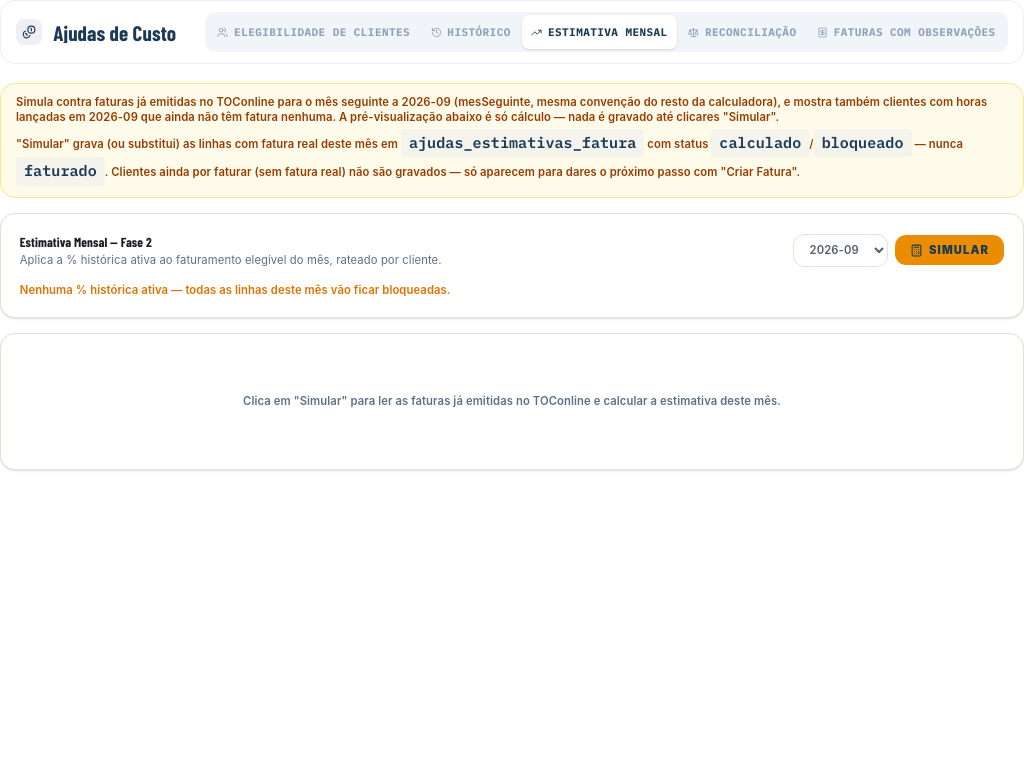
EstimativaMensalTab — Fase 2a com faturas reais do TOConline › resolução manual de fatura sem cliente correspondente › mostra um painel de resolução em vez de só excluir, e não entra no cálculo enquanto pendente
The image size is (1024, 768).
Click the button "Simular": (950, 250) [895, 235, 1004, 265]
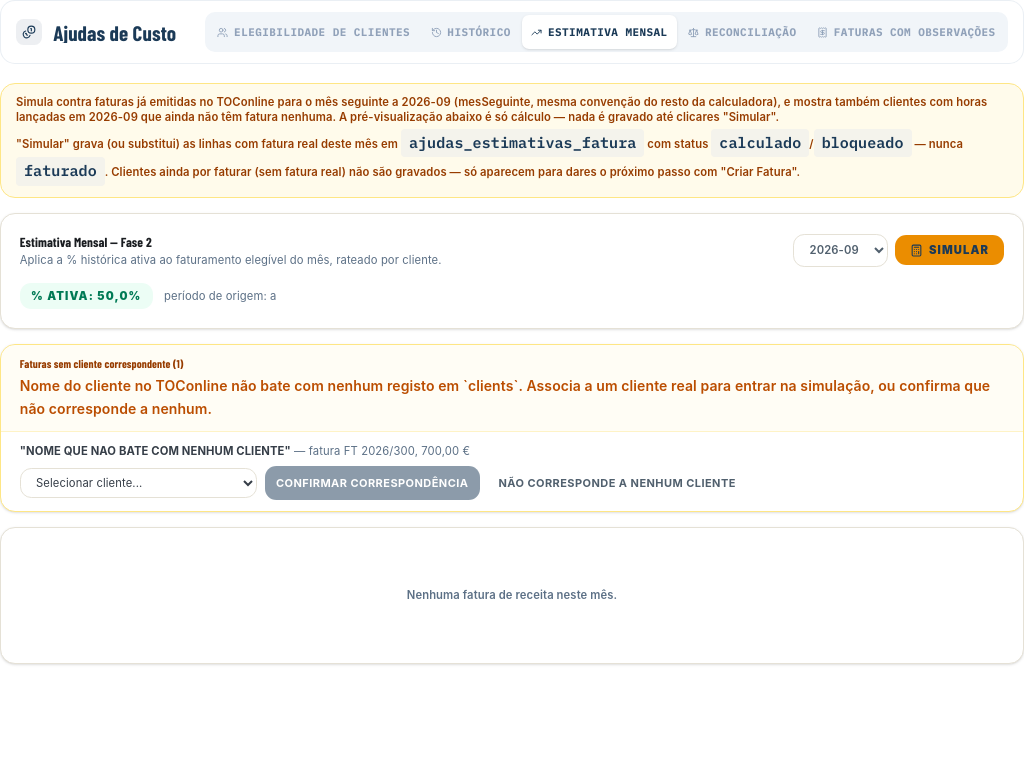
Now the text "\"NOME QUE NAO BATE COM NENHUM CLIENTE\"" is shown, box [20, 444, 291, 458]
Now the heading "Faturas sem cliente correspondente (1)" is shown, box [20, 357, 184, 370]
